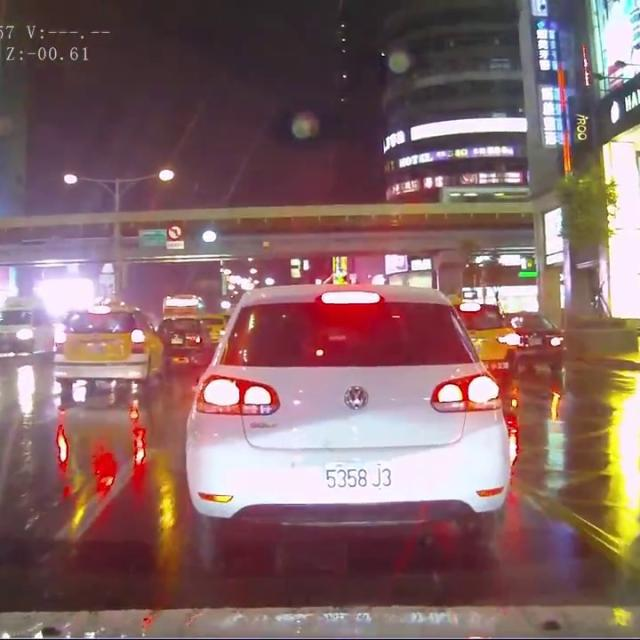Car: (180, 278, 516, 547), (56, 309, 167, 386), (450, 305, 528, 371), (509, 307, 567, 364), (0, 305, 53, 359), (153, 316, 205, 359), (205, 308, 229, 342)
